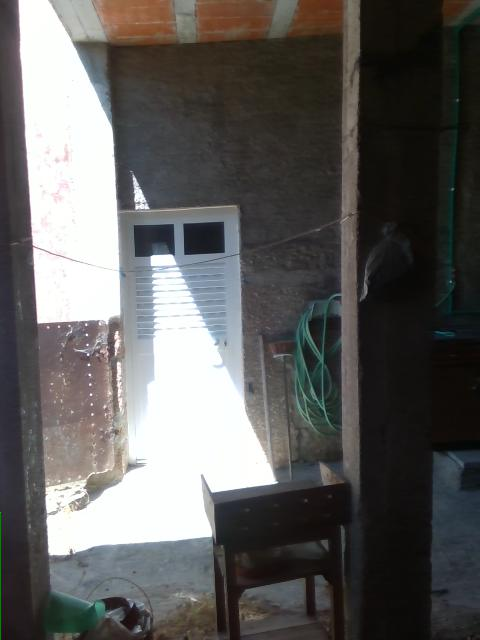door: (115, 205, 244, 465)
